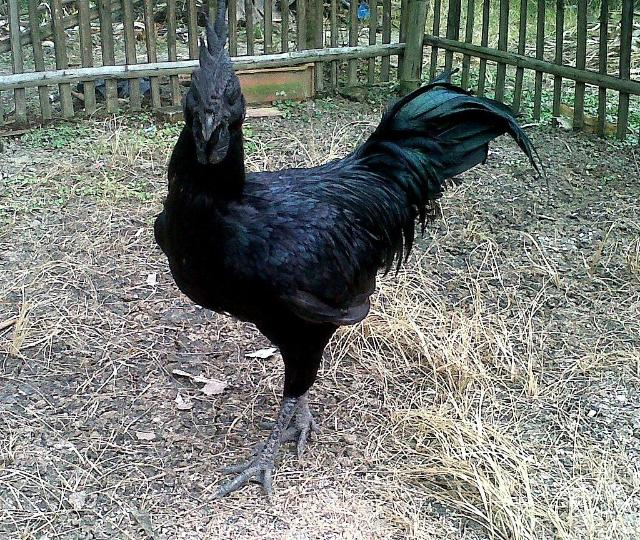Chicken: (152, 1, 548, 504)
